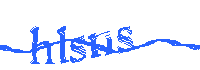h: (30, 25, 54, 66)
l: (56, 26, 70, 65)
n: (88, 30, 114, 57)
s: (116, 26, 135, 54), (70, 35, 86, 62)
